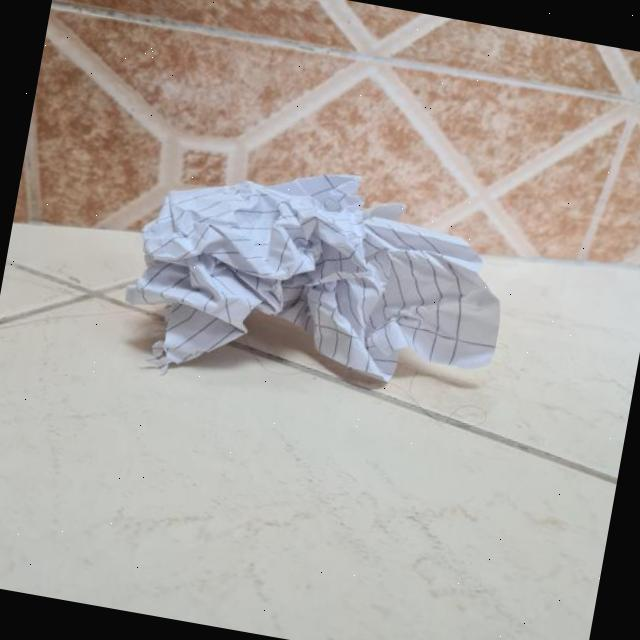trash: (121, 144, 525, 416)
